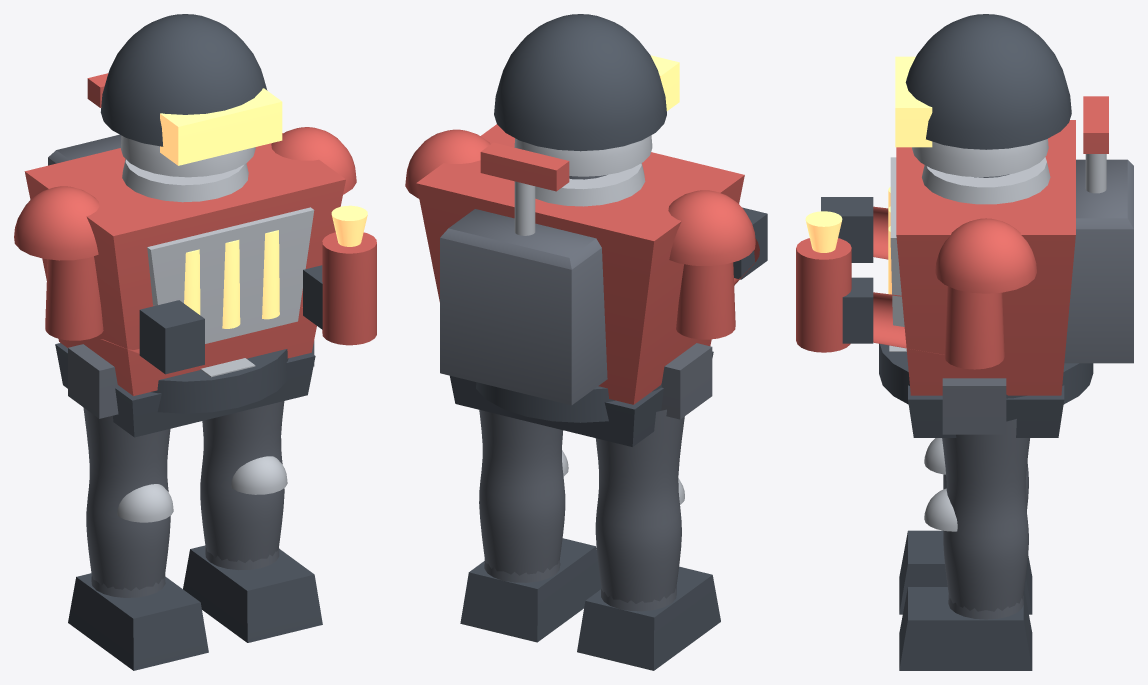
The model's file is ivan.glb.
3 views of the same model, side by side, from view 1: azimuth 30°, elevation 25°; view 2: azimuth 150°, elevation 25°; view 3: azimuth 270°, elevation 25° (orthographic). The views are drawn at different scales.
Visible parts, largest first — view 1: Hull; view 2: Hull; view 3: Hull.
Part boxes in pixels (bbox=[...]): Hull: bbox=[14, 14, 376, 670]; Hull: bbox=[405, 14, 767, 670]; Hull: bbox=[796, 14, 1133, 670].
Bounding box in the file's own units: 0.6327 × 1.09 × 0.5538.
